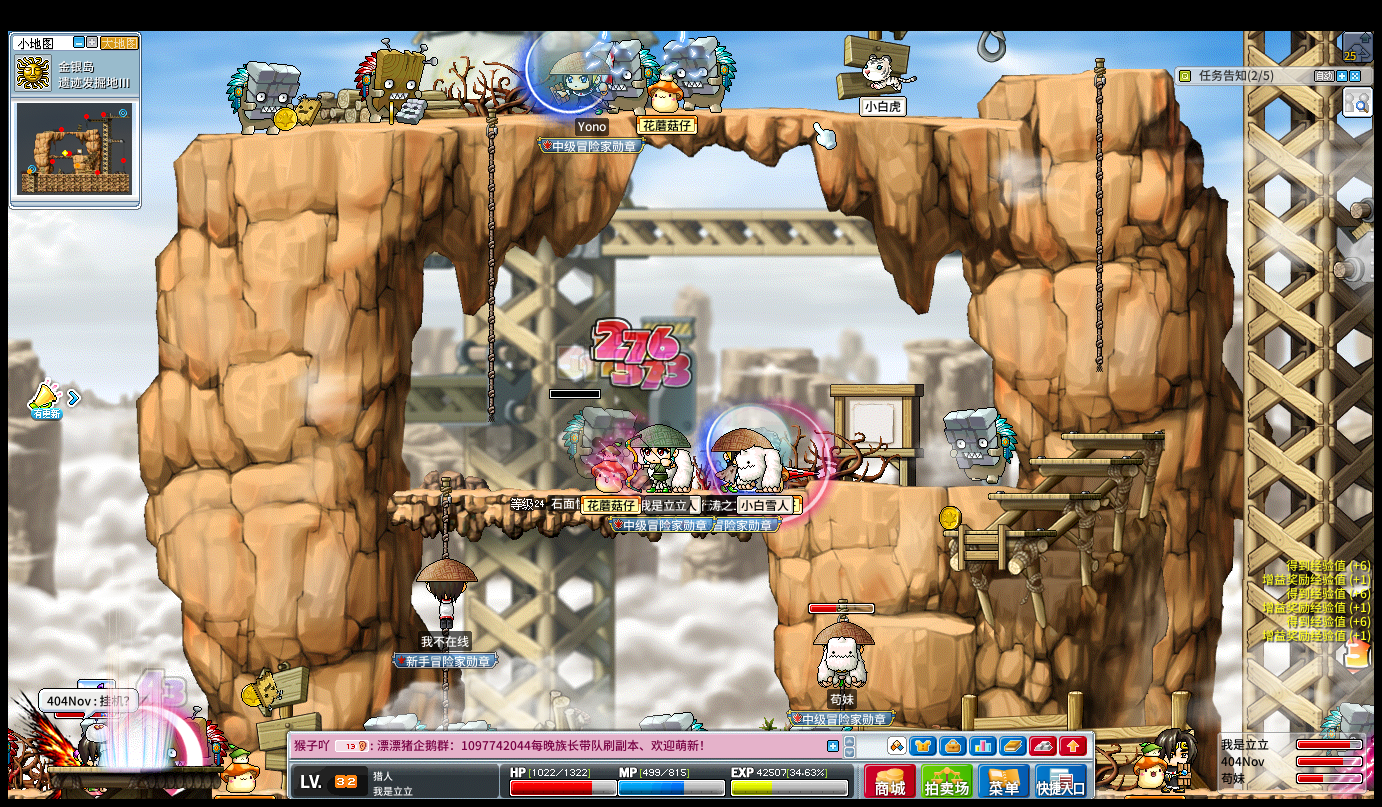floor: (194, 107, 1030, 139), (389, 487, 773, 498), (995, 64, 1171, 78), (869, 613, 975, 634), (873, 482, 1024, 491), (1062, 429, 1165, 442), (984, 490, 1095, 499), (942, 528, 1054, 536), (1027, 456, 1139, 464), (990, 492, 1099, 500)
monster: (353, 40, 431, 125), (224, 59, 301, 135), (942, 406, 1016, 484), (670, 33, 738, 112), (558, 404, 618, 488), (598, 37, 657, 114)
rope: (1091, 56, 1106, 381), (485, 105, 497, 420), (1092, 58, 1105, 288), (1091, 257, 1103, 369), (436, 478, 451, 559)
